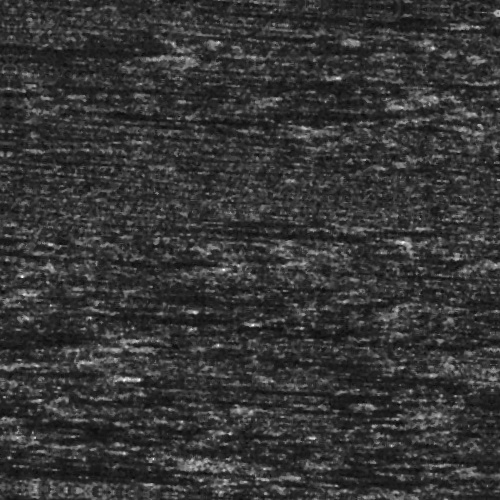object: (345, 227, 418, 234), (220, 90, 283, 95), (176, 51, 197, 64), (442, 10, 463, 13), (111, 380, 122, 385)
shadow: (148, 227, 381, 234), (112, 10, 453, 13), (112, 51, 187, 64), (98, 90, 251, 95), (424, 443, 500, 452), (0, 380, 116, 385)
